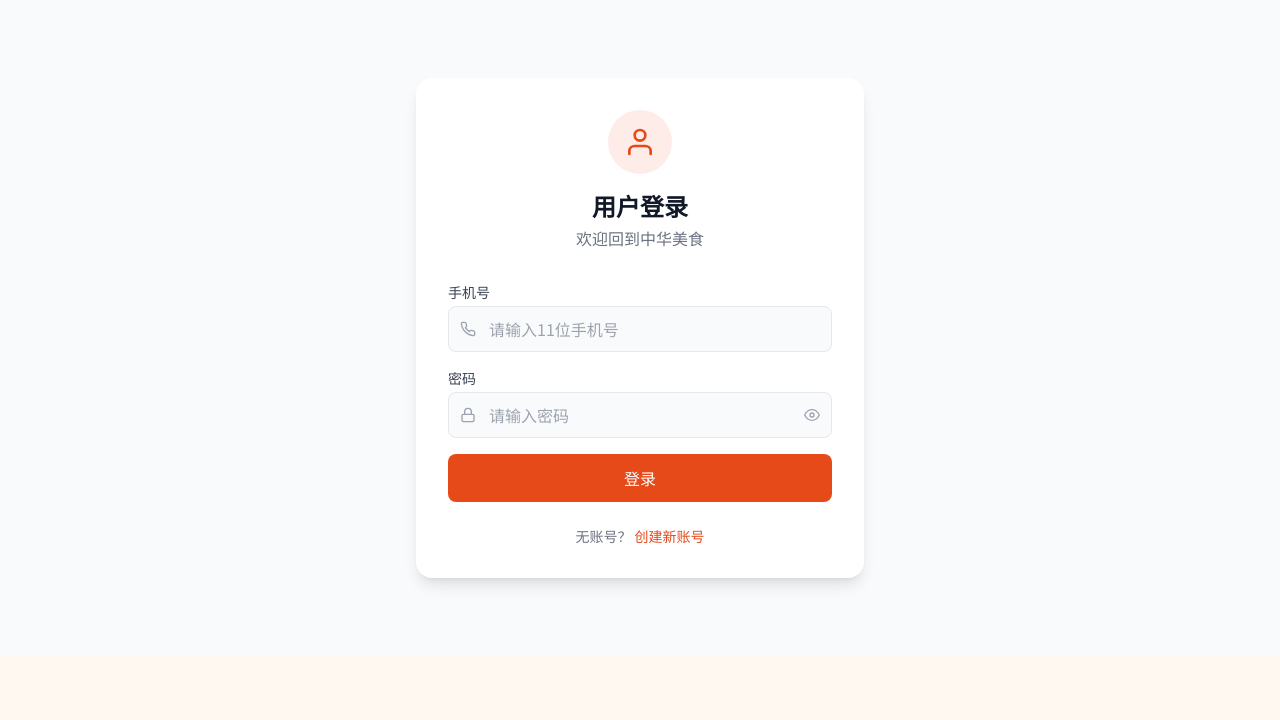
Test: AuthPage › Login Mode › should show error for invalid phone number
Step 1. Type "123" into the field with placeholder "请输入11位手机号" → (640, 329), box [448,306,832,352]
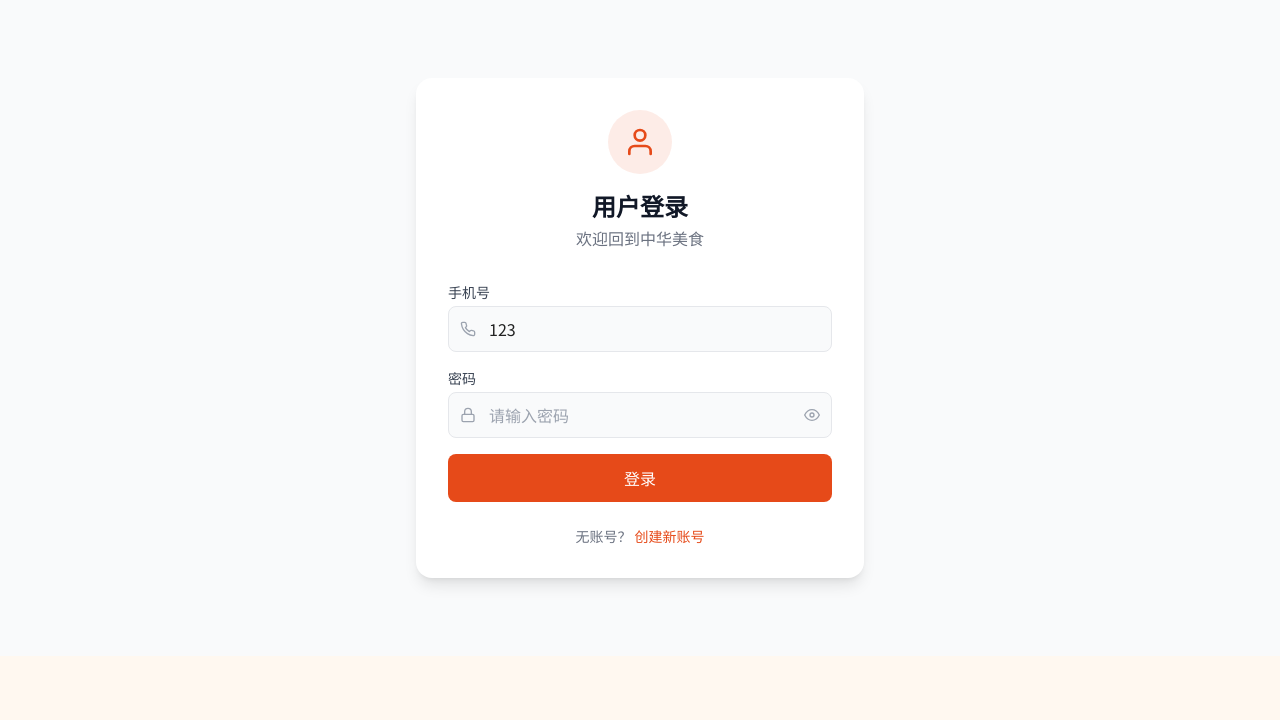
Step 2. Click the button "登录" → (640, 478), box [448,454,832,502]
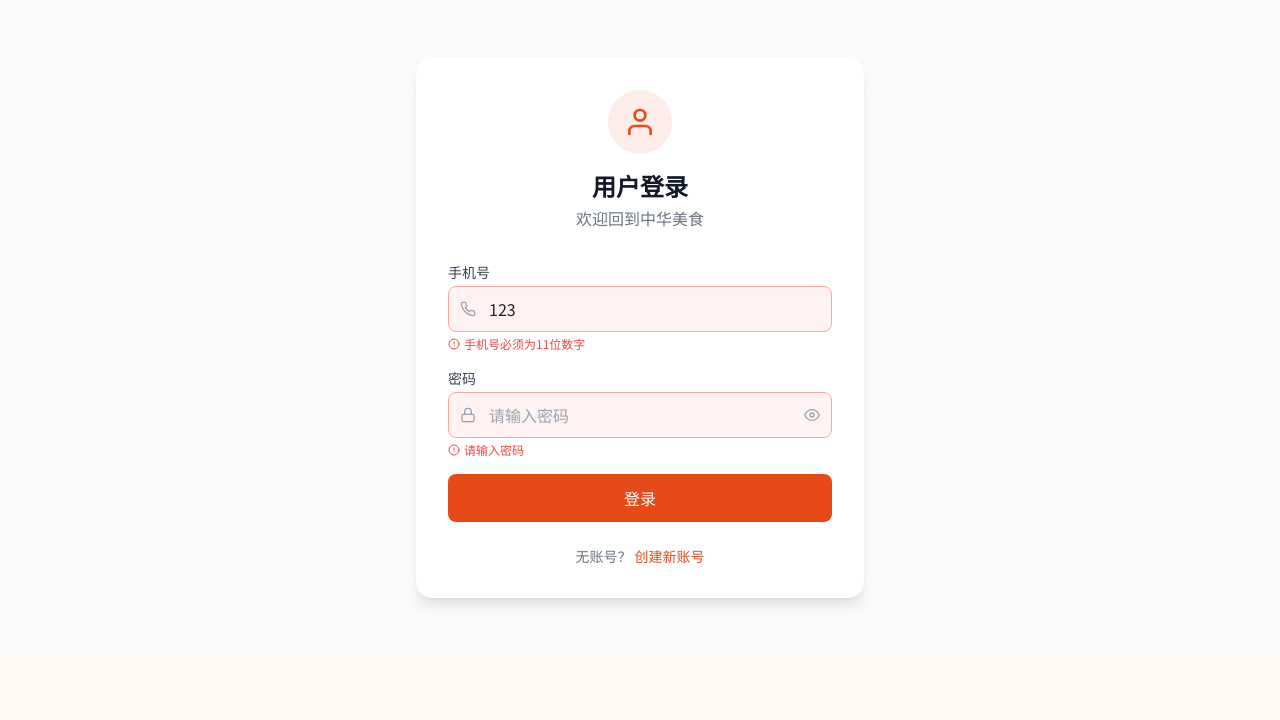
Check: the text "手机号必须为11位数字" is shown, box [448,335,585,352]
